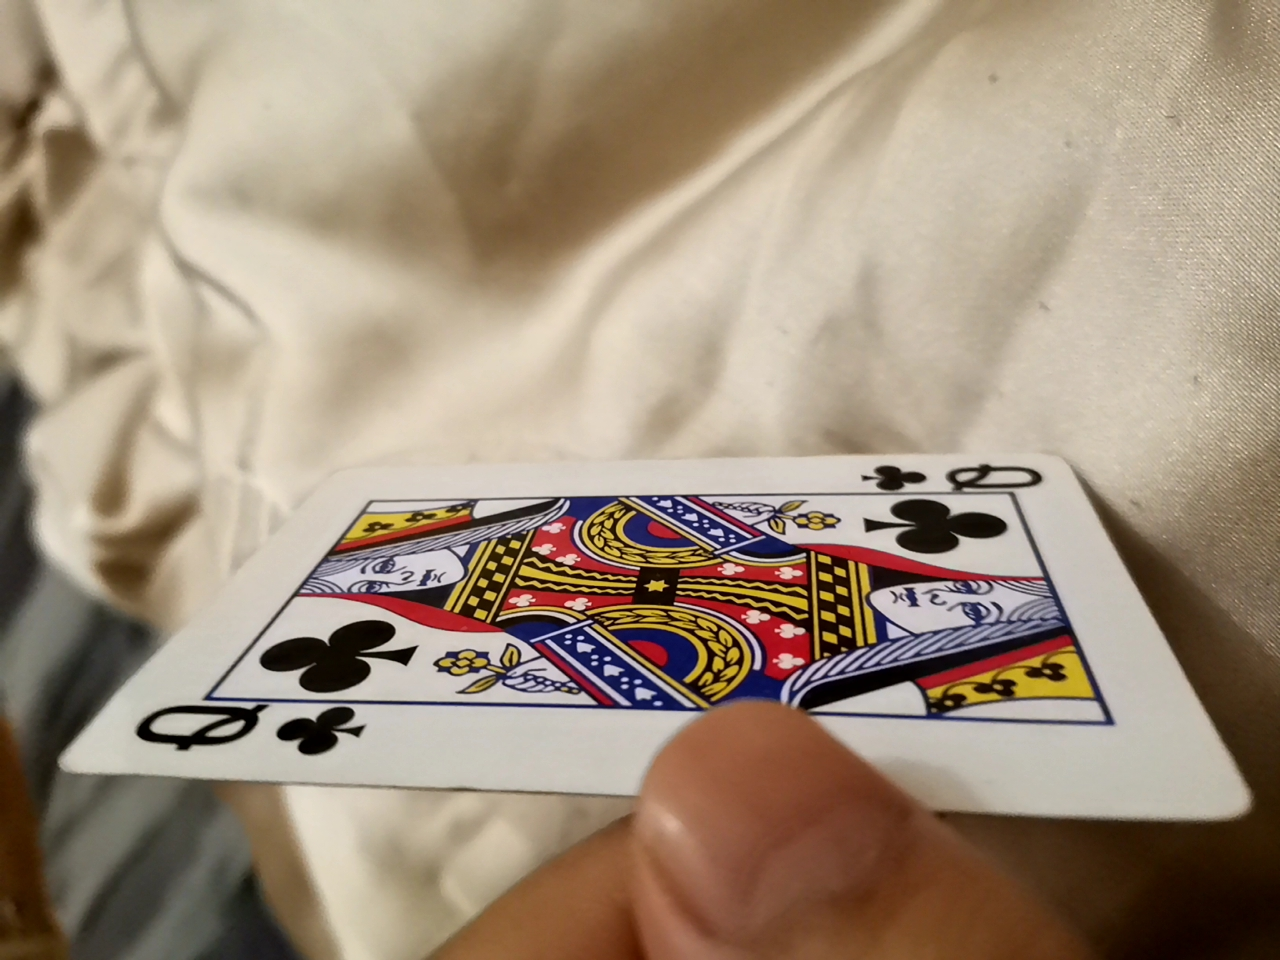mh q: (103, 418, 1229, 812)
